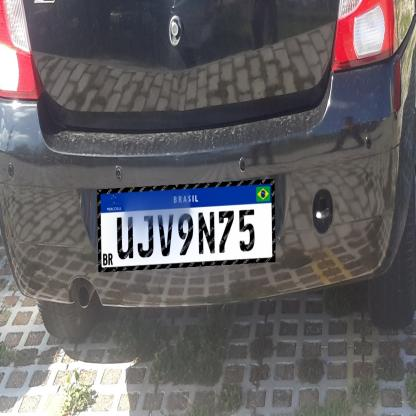PlacaM: (98, 179, 276, 272)
